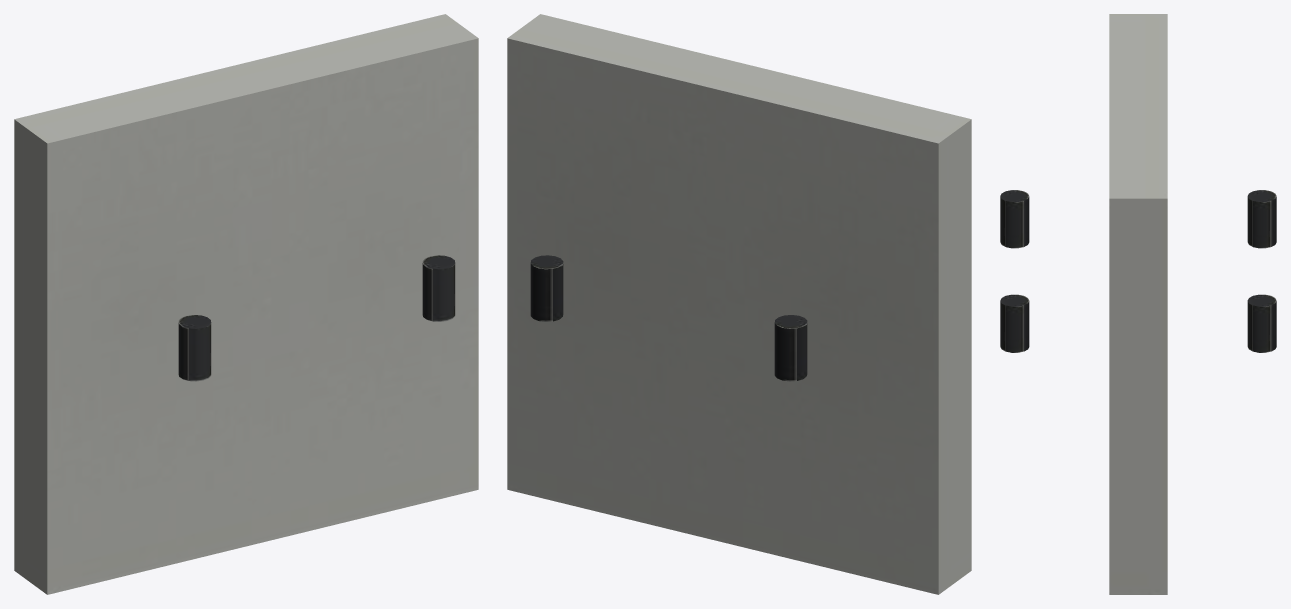
File: BD_foundation.glb
The picture shows the model from 3 angles, left to right: view 1: azimuth 30°, elevation 25°; view 2: azimuth 150°, elevation 25°; view 3: azimuth 270°, elevation 25°; orthographic projection. The views are drawn at different scales.
Parts seen in each view (by area): view 1: BD_foundation; view 2: BD_foundation; view 3: BD_foundation.
Boxes of the visible parts, x1=… form: BD_foundation: x1=14, y1=14, x2=478, y2=594; BD_foundation: x1=507, y1=14, x2=971, y2=594; BD_foundation: x1=1000, y1=14, x2=1276, y2=594.
Size of the model in its own units: 3 by 3 by 1.9.
1 material, 1 textured.
